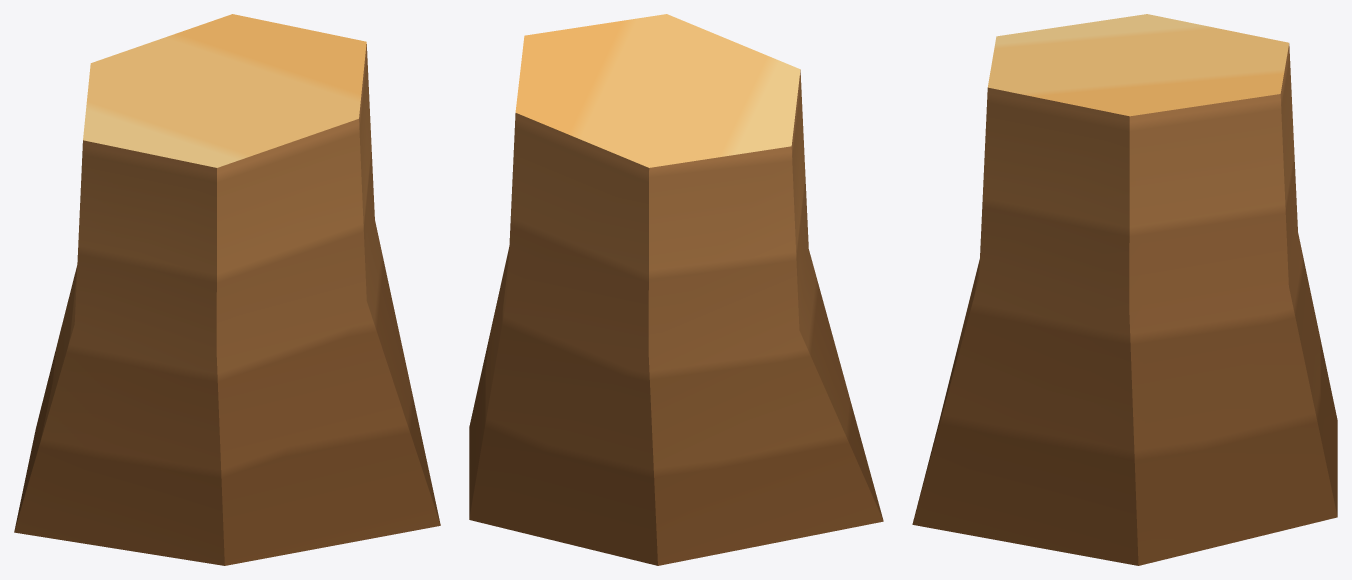
File: tree.fbx
3 views of the same model, side by side, from view 1: azimuth 30°, elevation 25°; view 2: azimuth 150°, elevation 25°; view 3: azimuth 270°, elevation 25° (orthographic). The views are drawn at different scales.
Visible parts, largest first — view 1: tree; view 2: tree; view 3: tree.
Boxes of the visible parts, box(x1,y1,x2,y2) form: tree: box(14, 14, 440, 565); tree: box(469, 14, 883, 565); tree: box(912, 14, 1337, 565).
Bounding box in the file's own units: 10.09 × 9.51 × 8.66.
